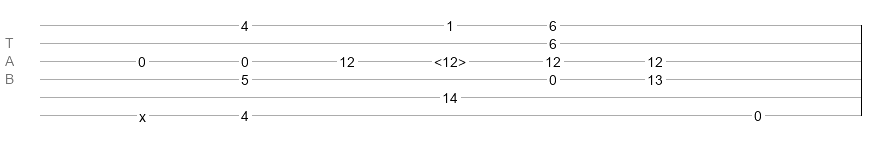0: (138, 54, 146, 64), (241, 54, 249, 64), (549, 72, 557, 82), (754, 108, 762, 118)
1: (446, 18, 454, 28)
12: (339, 54, 355, 64), (545, 54, 561, 64), (647, 54, 663, 64)
13: (647, 72, 663, 82)
14: (442, 90, 458, 100)
4: (241, 18, 249, 28), (241, 108, 249, 118)
5: (241, 72, 249, 82)
6: (549, 36, 557, 46), (549, 18, 557, 28)
harmonic: (434, 54, 466, 64)
x: (139, 109, 146, 117)
